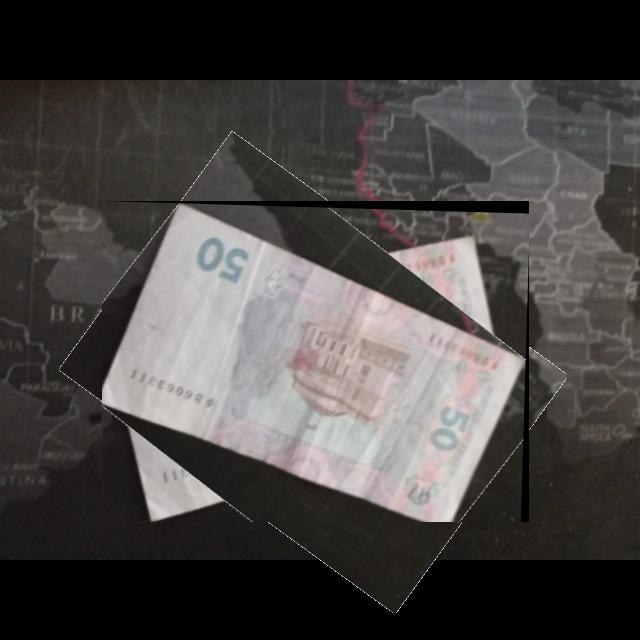50uah: (102, 203, 527, 523)
